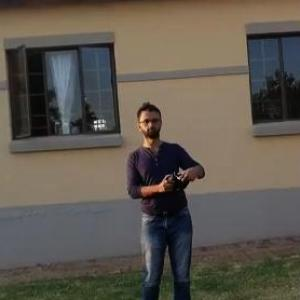follow: (121, 96, 216, 299)
